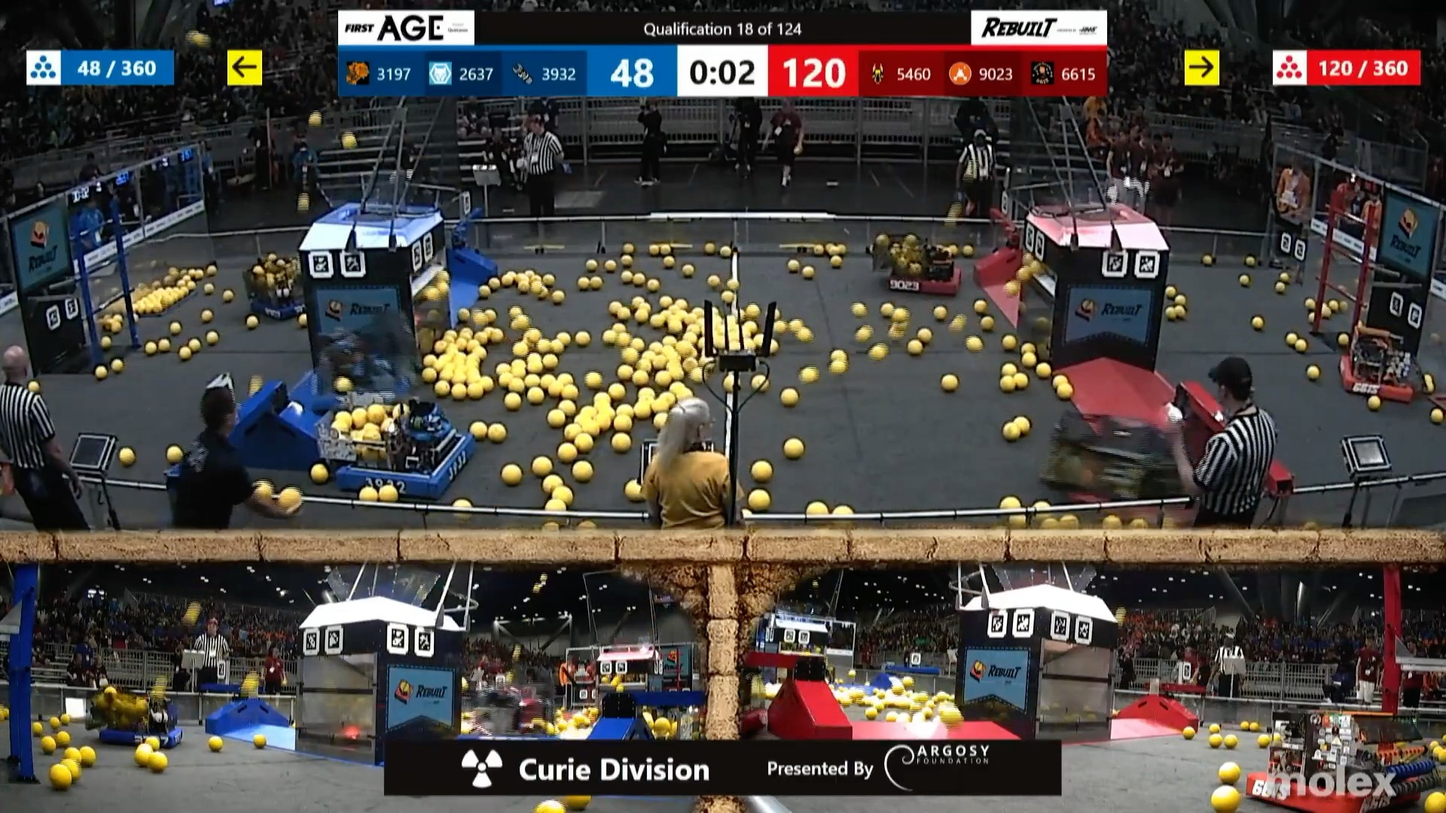bumpers: (336, 429, 480, 496), (285, 367, 419, 415), (1324, 350, 1426, 409), (94, 713, 197, 755), (875, 263, 972, 300), (245, 292, 328, 322)
